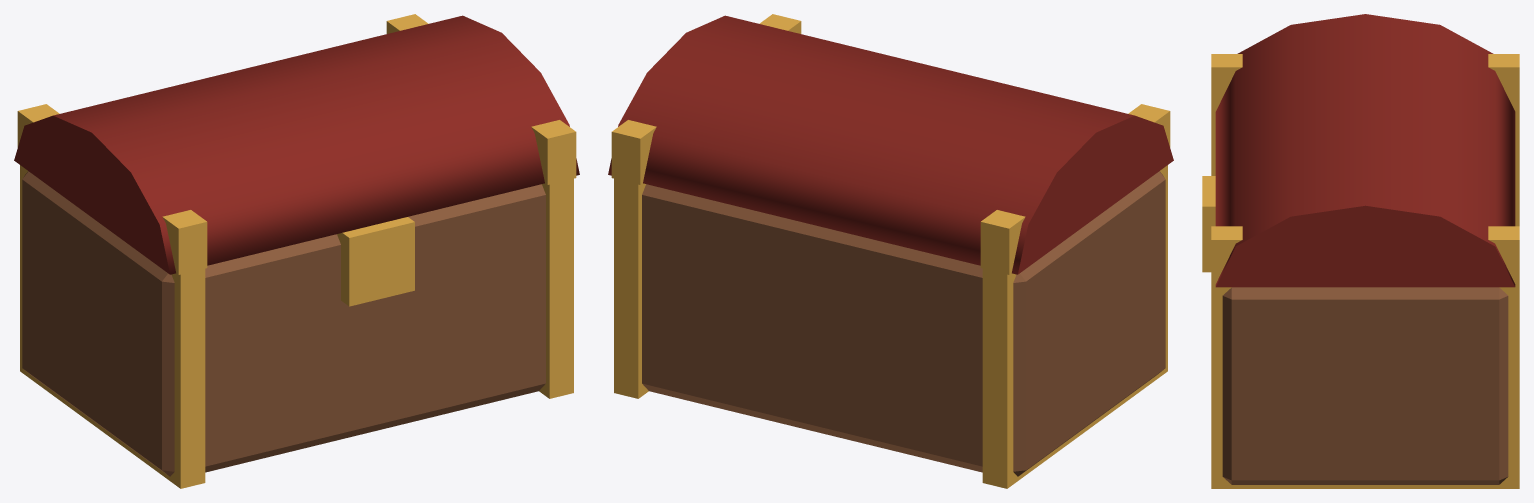
The model's file is chest.glb.
3 renders of one model, left to right at view 1: azimuth 30°, elevation 25°; view 2: azimuth 150°, elevation 25°; view 3: azimuth 270°, elevation 25°, orthographic. The views are drawn at different scales.
Parts seen in each view (by area): view 1: ChestBase, Lid; view 2: ChestBase, Lid; view 3: Lid, ChestBase.
Boxes of the visible parts, x1,y1,x2,y2 form: ChestBase: [20, 165, 573, 488]; Lid: [14, 14, 579, 274]; ChestBase: [614, 165, 1167, 488]; Lid: [608, 14, 1173, 274]; Lid: [1211, 14, 1519, 287]; ChestBase: [1202, 111, 1519, 488].
Size of what is drawn, in the model's own units: 1 by 0.698 by 0.7.
